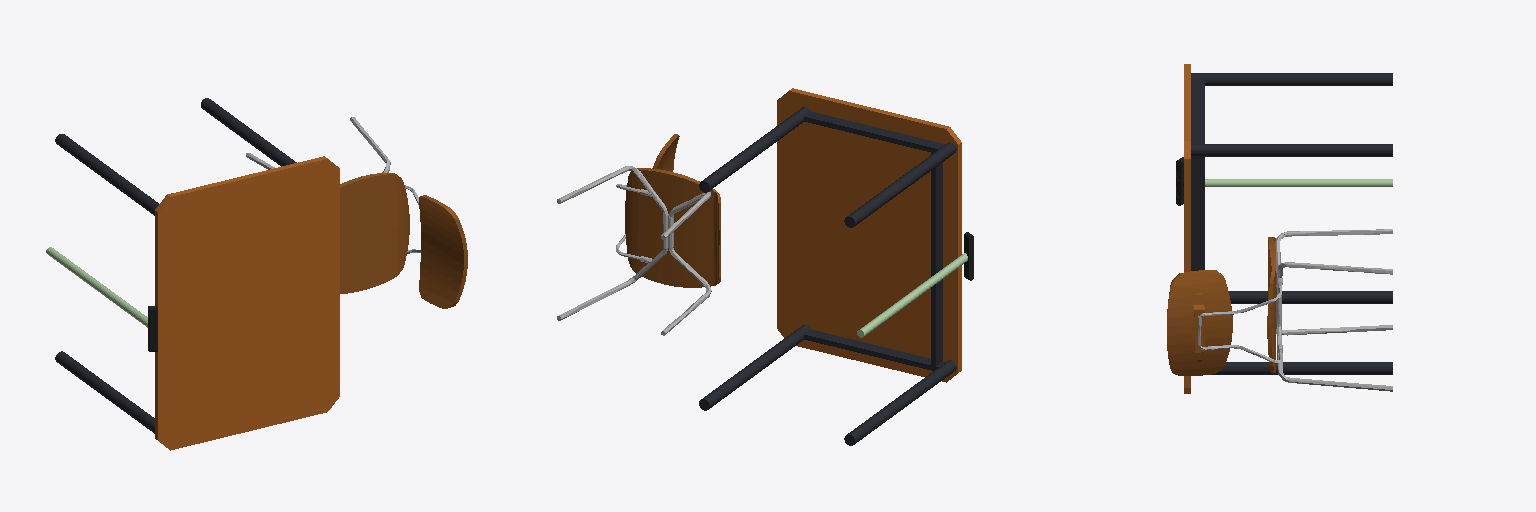
File: audience.obj
The picture shows the model from 3 angles: view 1: azimuth 30°, elevation 25°; view 2: azimuth 150°, elevation 25°; view 3: azimuth 270°, elevation 25°; orthographic projection.
Parts seen in each view (by area): view 1: Mesh3 audience_desk1 audience_workspace1 Model, Mesh4 audience_chair1 audience_workspace1 Model, Mesh5 audience_chair1 audience_workspace1 Model, Mesh1 stand1 audience_sensor_rgbd1 audience_workspace1 Model; view 2: Mesh3 audience_desk1 audience_workspace1 Model, Mesh4 audience_chair1 audience_workspace1 Model, Mesh8 audience_chair1 audience_workspace1 Model, Mesh6 audience_chair1 audience_workspace1 Model, Mesh1 stand1 audience_sensor_rgbd1 audience_workspace1 Model, Mesh5 audience_chair1 audience_workspace1 Model; view 3: Mesh3 audience_desk1 audience_workspace1 Model, Mesh5 audience_chair1 audience_workspace1 Model, Mesh8 audience_chair1 audience_workspace1 Model, Mesh1 stand1 audience_sensor_rgbd1 audience_workspace1 Model, Mesh6 audience_chair1 audience_workspace1 Model, Mesh4 audience_chair1 audience_workspace1 Model, Mesh7 audience_chair1 audience_workspace1 Model.
Boxes of the visible parts, <box> form: Mesh3 audience_desk1 audience_workspace1 Model: <box>55,98,339,450</box>; Mesh4 audience_chair1 audience_workspace1 Model: <box>340,173,409,293</box>; Mesh5 audience_chair1 audience_workspace1 Model: <box>419,195,467,308</box>; Mesh1 stand1 audience_sensor_rgbd1 audience_workspace1 Model: <box>46,247,147,327</box>; Mesh3 audience_desk1 audience_workspace1 Model: <box>699,88,961,445</box>; Mesh4 audience_chair1 audience_workspace1 Model: <box>625,168,720,287</box>; Mesh8 audience_chair1 audience_workspace1 Model: <box>557,166,668,320</box>; Mesh6 audience_chair1 audience_workspace1 Model: <box>661,192,711,335</box>; Mesh1 stand1 audience_sensor_rgbd1 audience_workspace1 Model: <box>857,253,967,337</box>; Mesh5 audience_chair1 audience_workspace1 Model: <box>652,134,679,171</box>; Mesh3 audience_desk1 audience_workspace1 Model: <box>1184,64,1392,393</box>; Mesh5 audience_chair1 audience_workspace1 Model: <box>1167,270,1232,375</box>; Mesh8 audience_chair1 audience_workspace1 Model: <box>1198,262,1392,391</box>; Mesh1 stand1 audience_sensor_rgbd1 audience_workspace1 Model: <box>1205,179,1392,186</box>; Mesh6 audience_chair1 audience_workspace1 Model: <box>1275,229,1392,335</box>; Mesh4 audience_chair1 audience_workspace1 Model: <box>1267,237,1276,372</box>; Mesh7 audience_chair1 audience_workspace1 Model: <box>1193,293,1204,361</box>.
Bounding box in the file's own units: 1.3 × 1 × 0.8111.